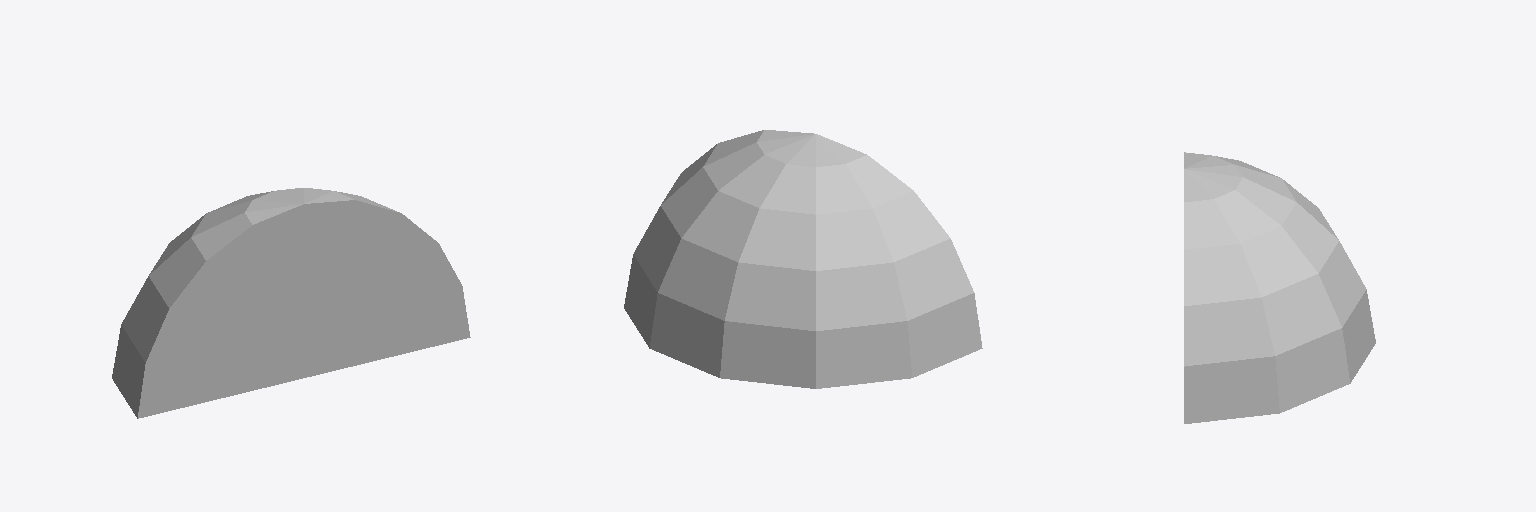
The model's file is Naranja-1_4B.obj.
3 views of the same model, side by side, from view 1: azimuth 30°, elevation 25°; view 2: azimuth 150°, elevation 25°; view 3: azimuth 270°, elevation 25° (orthographic).
Visible parts, largest first — view 1: Naranja-1_4B_Sphere.008; view 2: Naranja-1_4B_Sphere.008; view 3: Naranja-1_4B_Sphere.008.
Part boxes in pixels (x1,y1,x2,y2): Naranja-1_4B_Sphere.008: (112, 188, 470, 418); Naranja-1_4B_Sphere.008: (624, 130, 982, 388); Naranja-1_4B_Sphere.008: (1184, 152, 1375, 423).
Bounding box in the file's own units: 2 × 1 × 1.